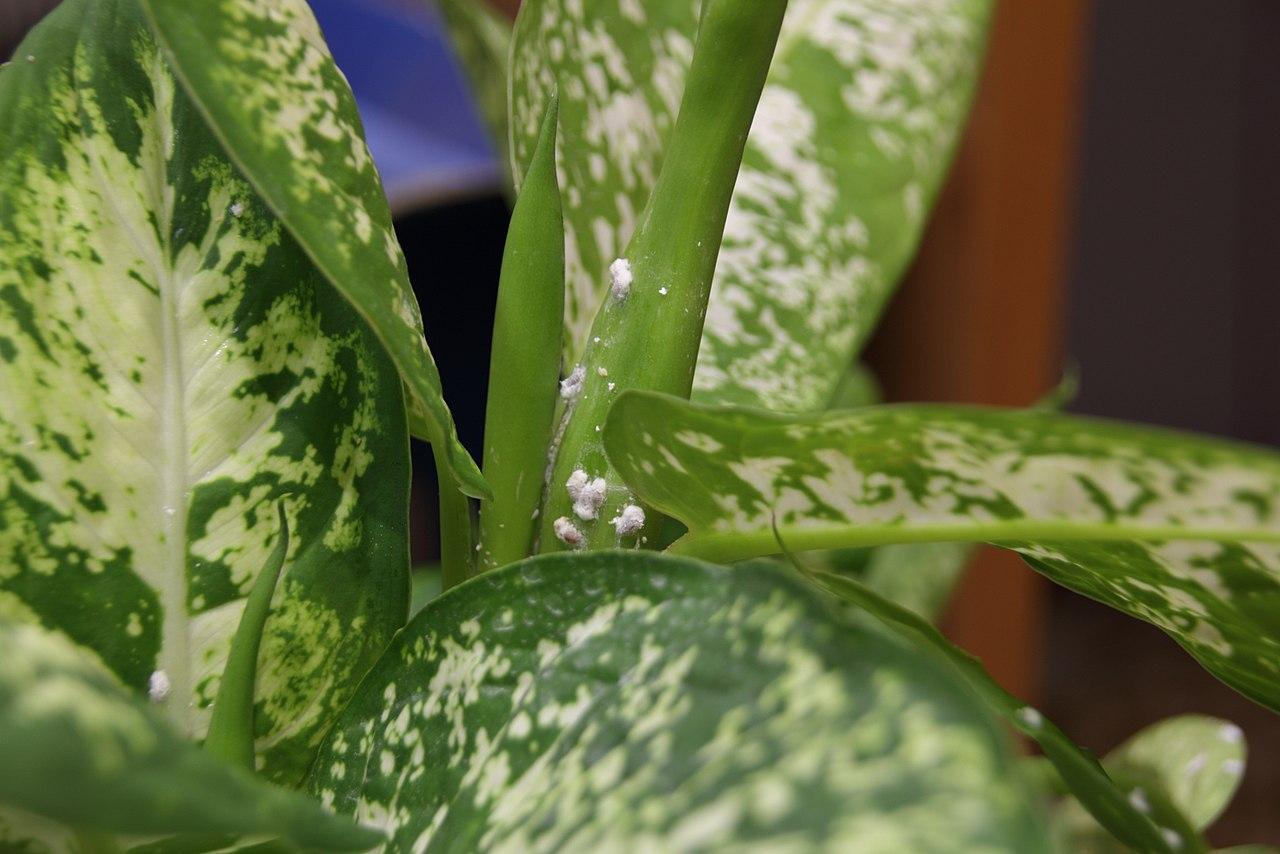pseudococcidae: (519, 230, 701, 582)
